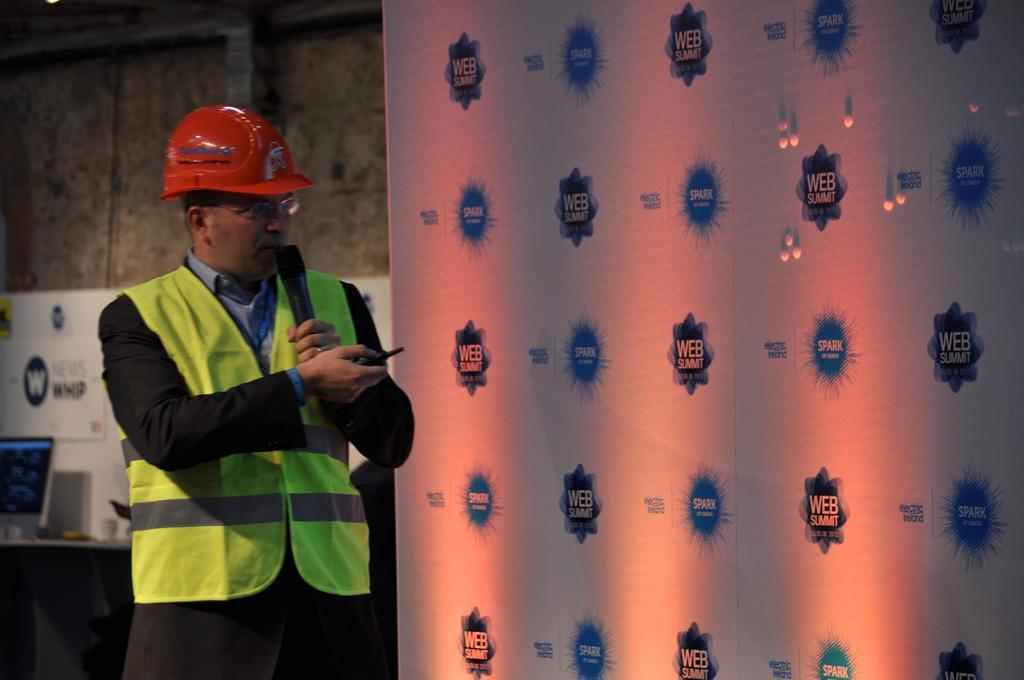Hat: (157, 110, 289, 212)
